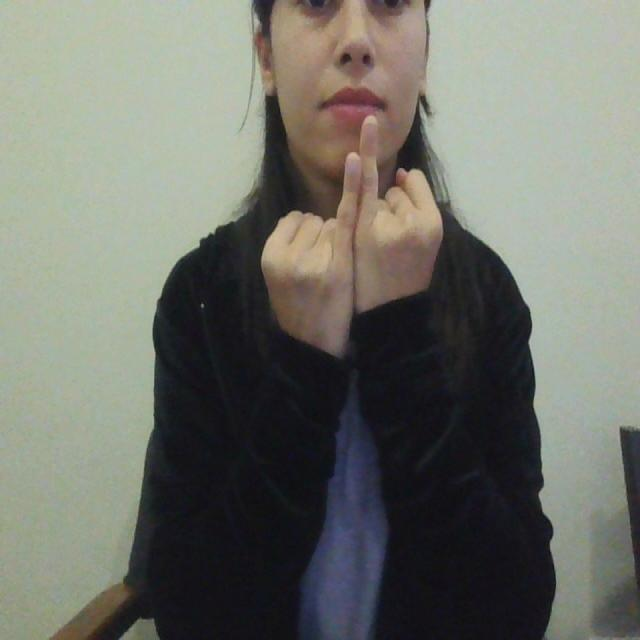Kardes: (258, 111, 451, 365)
